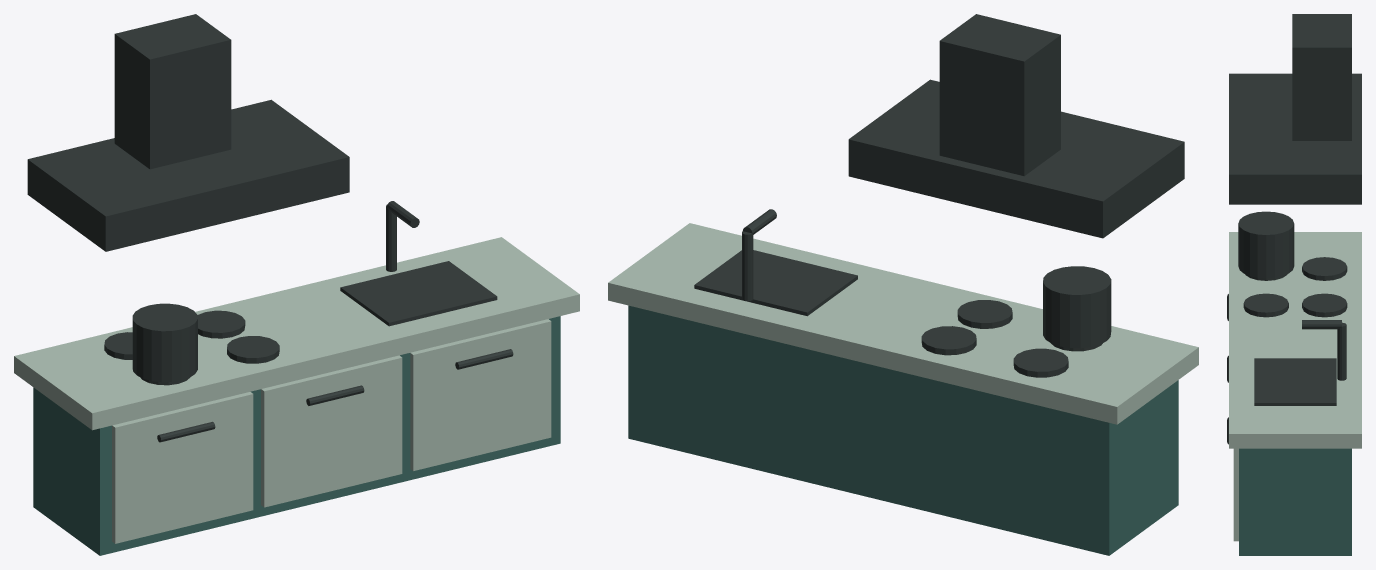
File: kitchen_range.glb
3 views of the same model, side by side, from view 1: azimuth 30°, elevation 25°; view 2: azimuth 150°, elevation 25°; view 3: azimuth 270°, elevation 25° (orthographic). The views are drawn at different scales.
Parts seen in each view (by area): view 1: counter, hood.001, WALL_cabinet, door.002, door, door.001, extractor, sink, cooking_pot, burner.003, burner.002, burner; view 2: WALL_cabinet, counter, hood.001, extractor, sink, cooking_pot, burner, burner.002, burner.003, tap; view 3: counter, hood.001, WALL_cabinet, extractor, sink, cooking_pot, burner, burner.002, burner.003, door.002, tap, tap_spout.
Boxes of the visible parts, x1,y1,x2,y2 form: counter: (14,237,579,430); hood.001: (27,99,349,251); WALL_cabinet: (33,316,560,555); door.002: (410,319,551,470); door: (112,392,253,543); door.001: (261,355,402,507); extractor: (114,14,231,169); sink: (340,261,497,326); cooking_pot: (132,303,197,382); burner.003: (227,336,279,363); burner.002: (197,310,245,338); burner: (104,332,132,359); WALL_cabinet: (628,305,1178,555); counter: (608,223,1198,424); hood.001: (848,79,1184,238); extractor: (939,14,1060,176); sink: (694,250,857,316); cooking_pot: (1043,266,1111,348); burner: (1013,348,1068,377); burner.002: (921,326,976,355); burner.003: (957,300,1012,328); tap: (742,231,753,301); counter: (1229,232,1361,448); hood.001: (1229,73,1361,204); WALL_cabinet: (1239,448,1351,555); extractor: (1292,14,1351,140); sink: (1254,358,1336,405); cooking_pot: (1238,211,1294,278); burner: (1302,257,1347,280); burner.002: (1302,293,1347,317); burner.003: (1243,293,1288,317); door.002: (1233,448,1238,541); tap: (1337,322,1346,380); tap_spout: (1302,320,1341,329).
Bounding box in the file's own units: 3.6 × 3.2 × 1.01.
